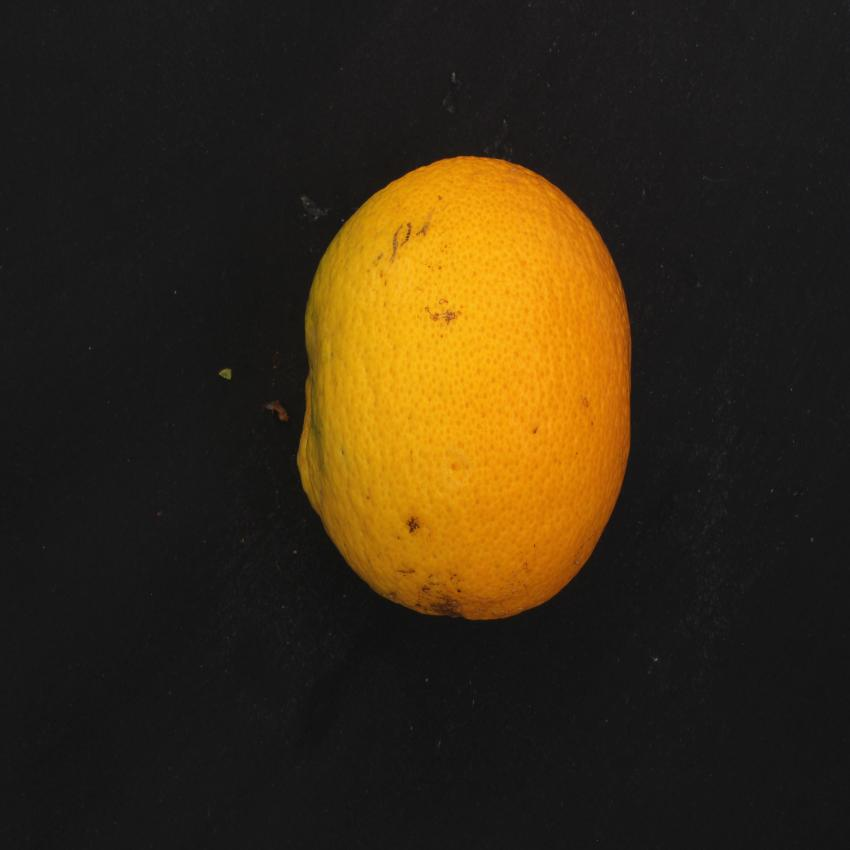Buen estado: (288, 145, 642, 636)
